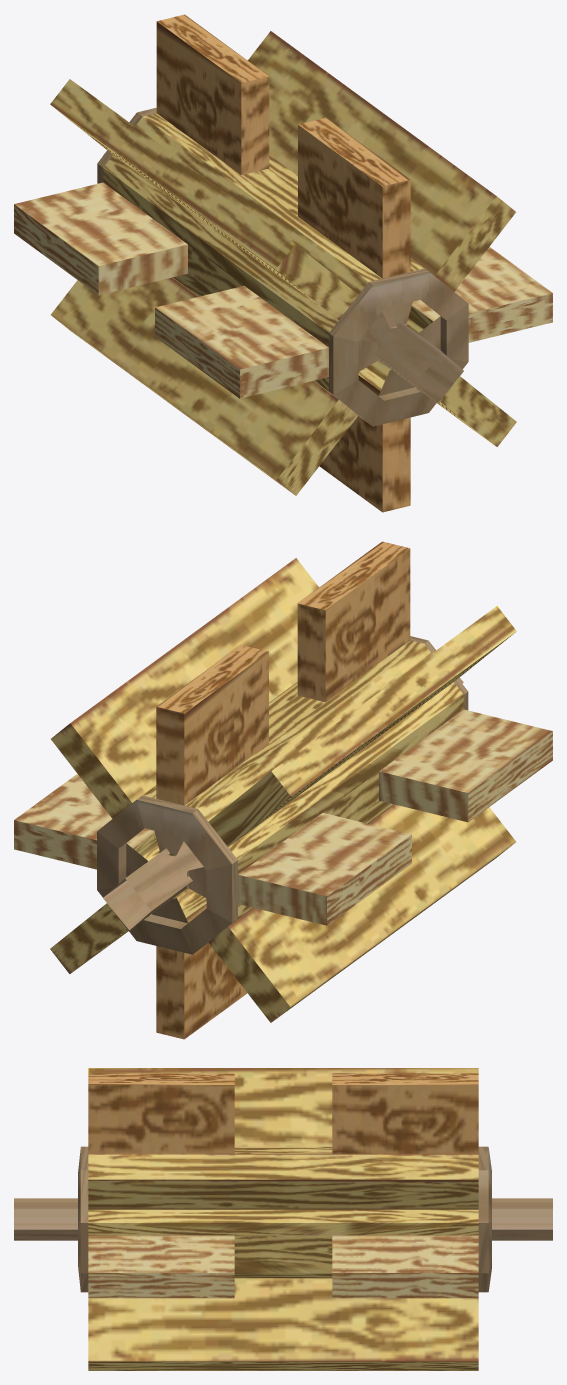
Rendered from biawatermill00.dae.
3 views of the same model, one above another, from view 1: azimuth 30°, elevation 25°; view 2: azimuth 150°, elevation 25°; view 3: azimuth 270°, elevation 25° (orthographic). The views are drawn at different scales.
Parts seen in each view (by area): view 1: m0; view 2: m0; view 3: m0.
Part boxes in pixels (x1,y1,x2,y2): m0: [14, 14, 552, 512]; m0: [14, 541, 552, 1039]; m0: [14, 1068, 552, 1370].
Bounding box in the file's own units: 400 × 398 × 691.
1 material, 1 textured.
